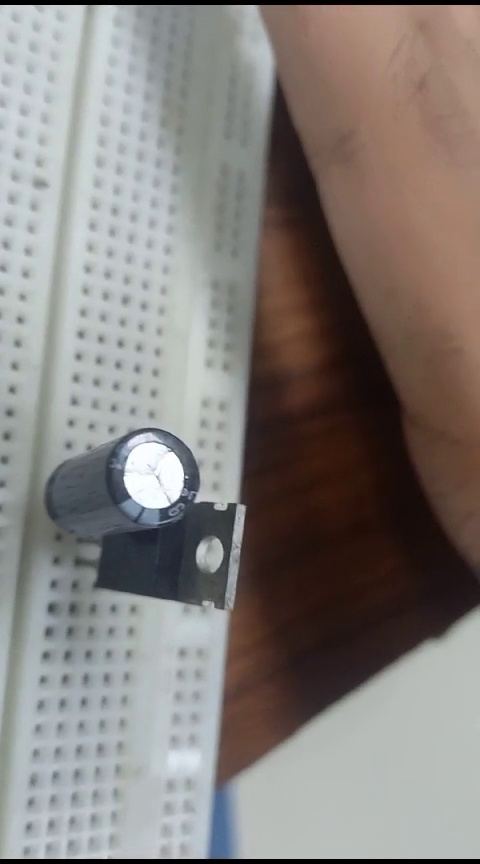capacitor: (35, 421, 203, 547)
voltage regulator: (102, 496, 250, 611)
